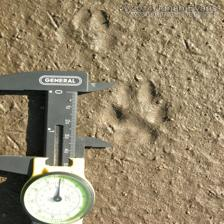fox: (107, 80, 177, 148)
